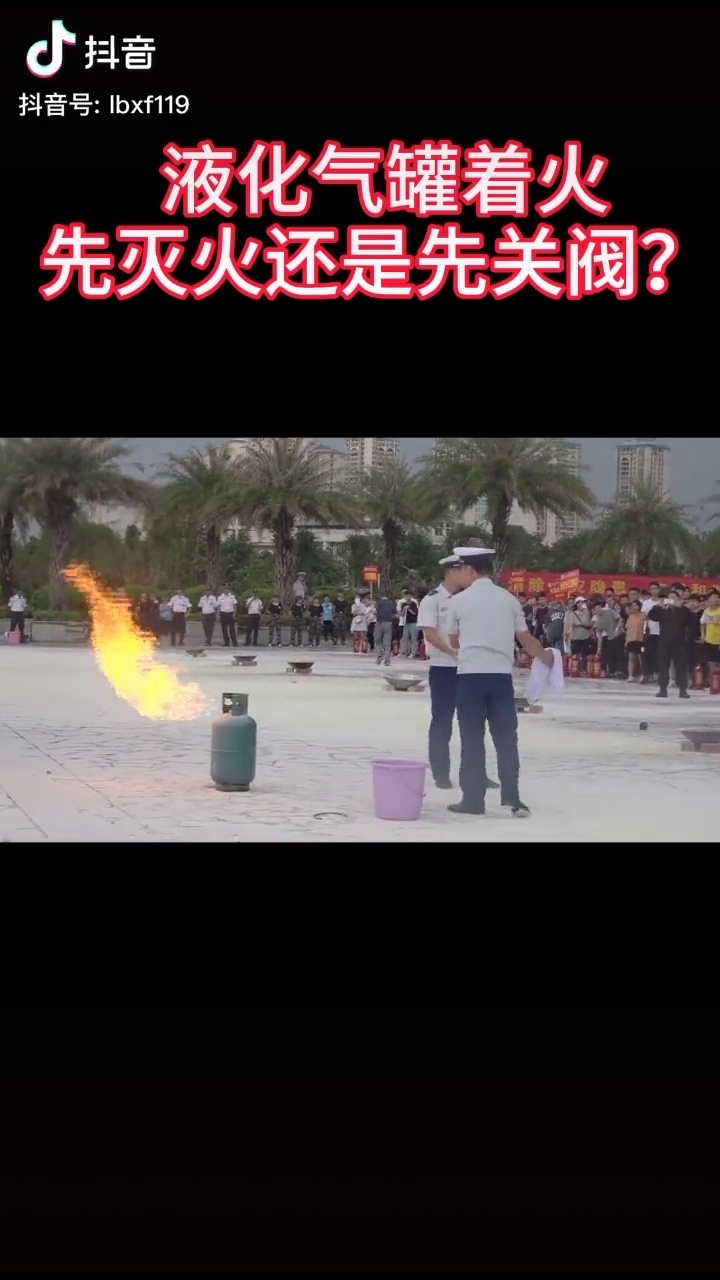fire: (66, 559, 206, 722)
